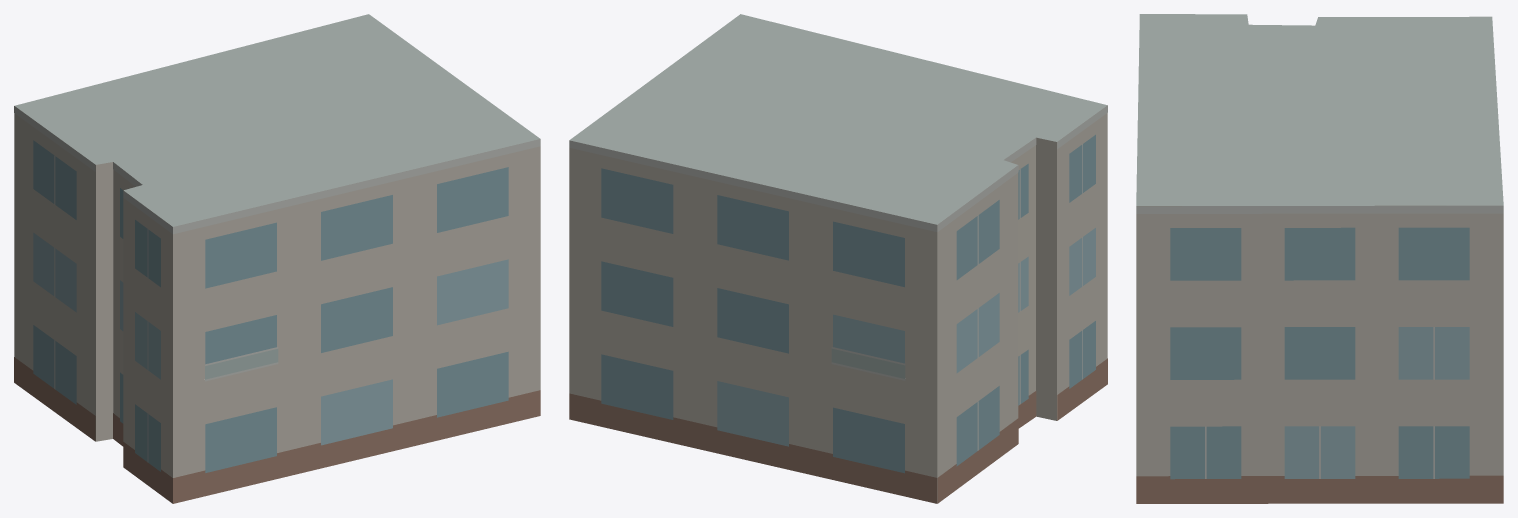
The model's file is survey-upis-32477515.glb.
3 views of the same model, side by side, from view 1: azimuth 30°, elevation 25°; view 2: azimuth 150°, elevation 25°; view 3: azimuth 270°, elevation 25° (orthographic). The views are drawn at different scales.
Parts seen in each view (by area): view 1: survey-upis-32477515.tmp; view 2: survey-upis-32477515.tmp; view 3: survey-upis-32477515.tmp.
Boxes of the visible parts, x1,y1,x2,y2 form: survey-upis-32477515.tmp: [14, 14, 540, 503]; survey-upis-32477515.tmp: [569, 14, 1107, 503]; survey-upis-32477515.tmp: [1136, 14, 1503, 503].
Bounding box in the file's own units: 12.74 × 9.2 × 10.3.
